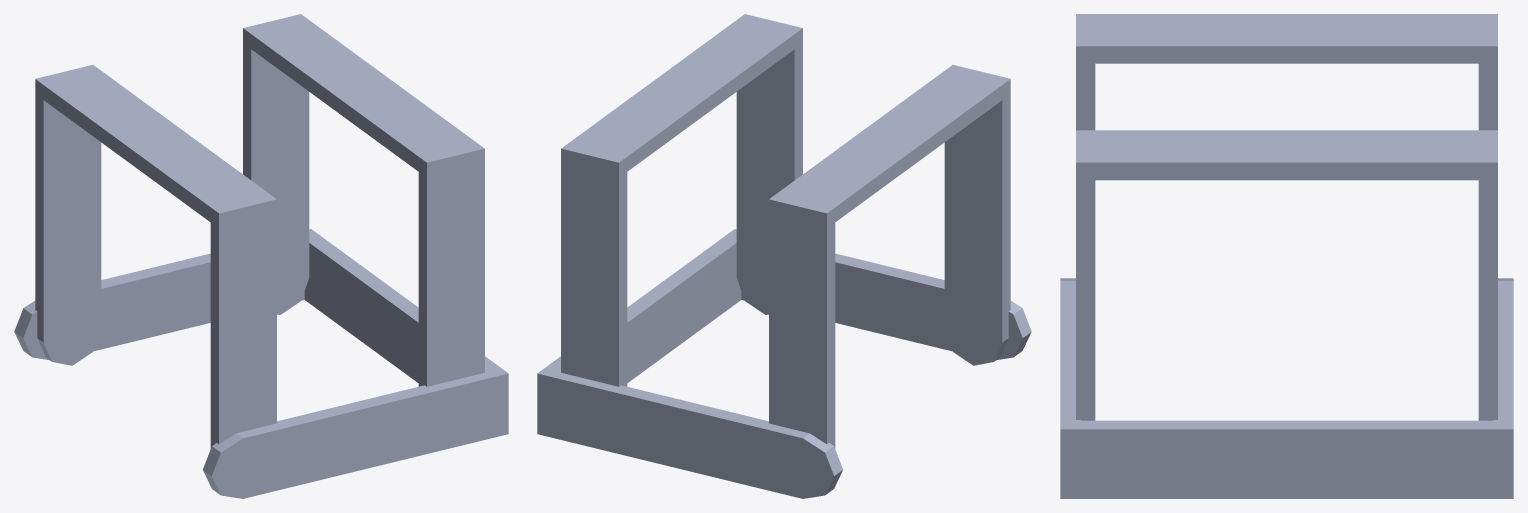
Rendered from bracket.dae.
3 renders of one model, left to right at view 1: azimuth 30°, elevation 25°; view 2: azimuth 150°, elevation 25°; view 3: azimuth 270°, elevation 25°, orthographic. The views are drawn at different scales.
Parts seen in each view (by area): view 1: brack1, brack3, brack2; view 2: brack1, brack3, brack2; view 3: brack2, brack3, brack1.
Part boxes in pixels (bbox=[...]): brack1: bbox=[35, 65, 276, 448]; brack3: bbox=[243, 14, 484, 386]; brack2: bbox=[14, 229, 508, 498]; brack1: bbox=[769, 65, 1010, 448]; brack3: bbox=[561, 14, 802, 386]; brack2: bbox=[537, 229, 1031, 498]; brack2: bbox=[1060, 278, 1513, 498]; brack3: bbox=[1076, 130, 1497, 420]; brack1: bbox=[1076, 14, 1497, 130].
Size of the model in its own units: 0.222 by 0.2557 by 0.2056.
